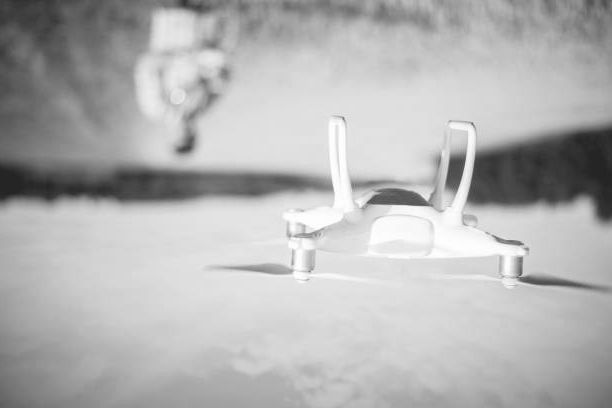Drone: (193, 114, 612, 297)
